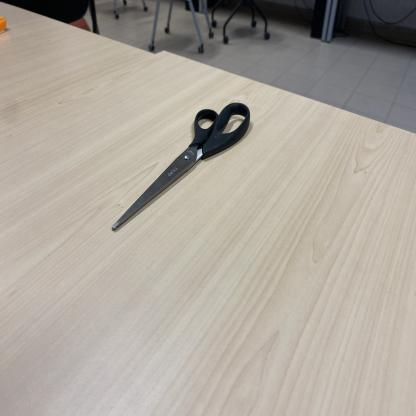scissors: (111, 102, 251, 233)
